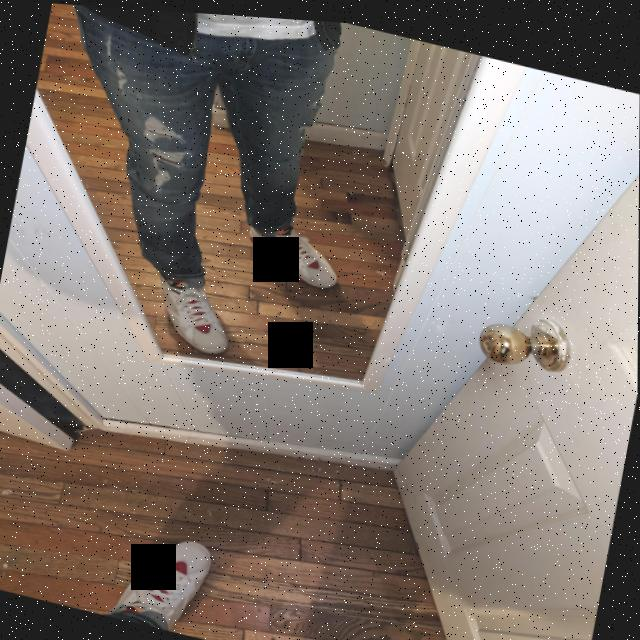shoes: (112, 521, 219, 636), (141, 266, 241, 357), (239, 214, 346, 289)
